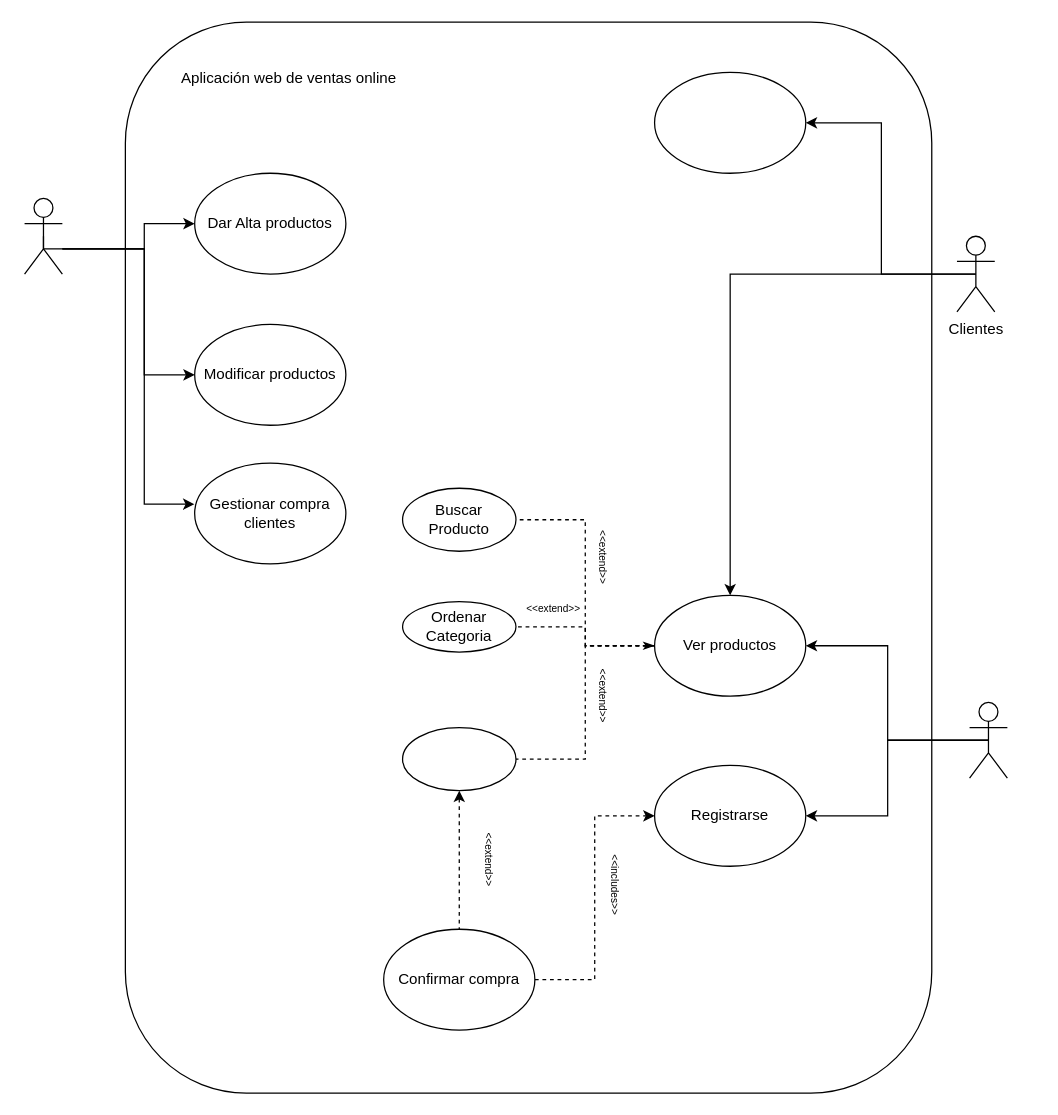
Image size: 1058x1115. Some labels were removed from this diagram. Each missing label, with the centre of its shape:
"Admin" belongs at pixel 42 235.
"Agregar a carrito" belongs at pixel 458 758.
"Modificar Datos" belongs at pixel 729 122.
"No registrados" belongs at pixel 987 739.
